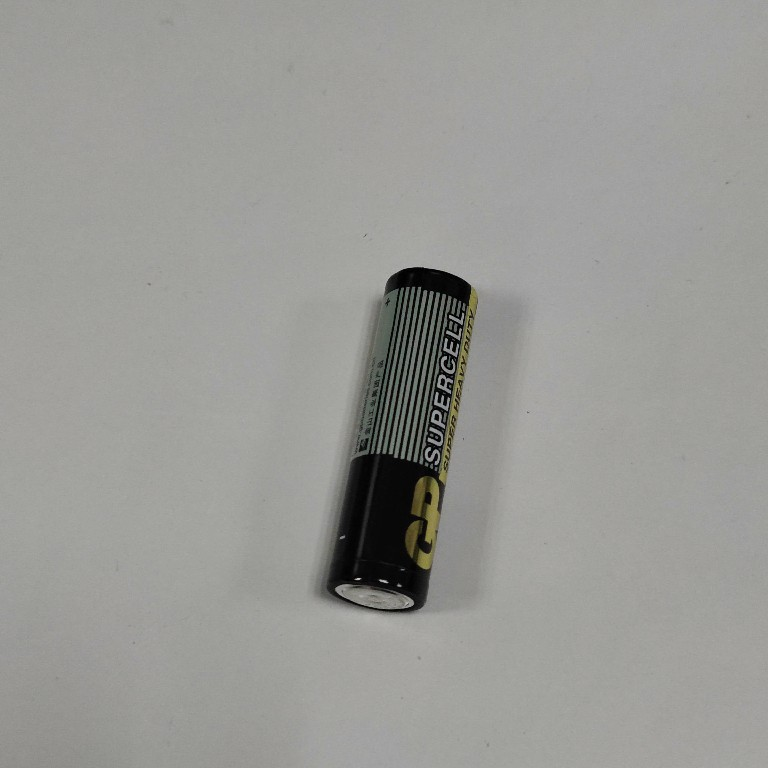charge: (317, 260, 485, 624)
